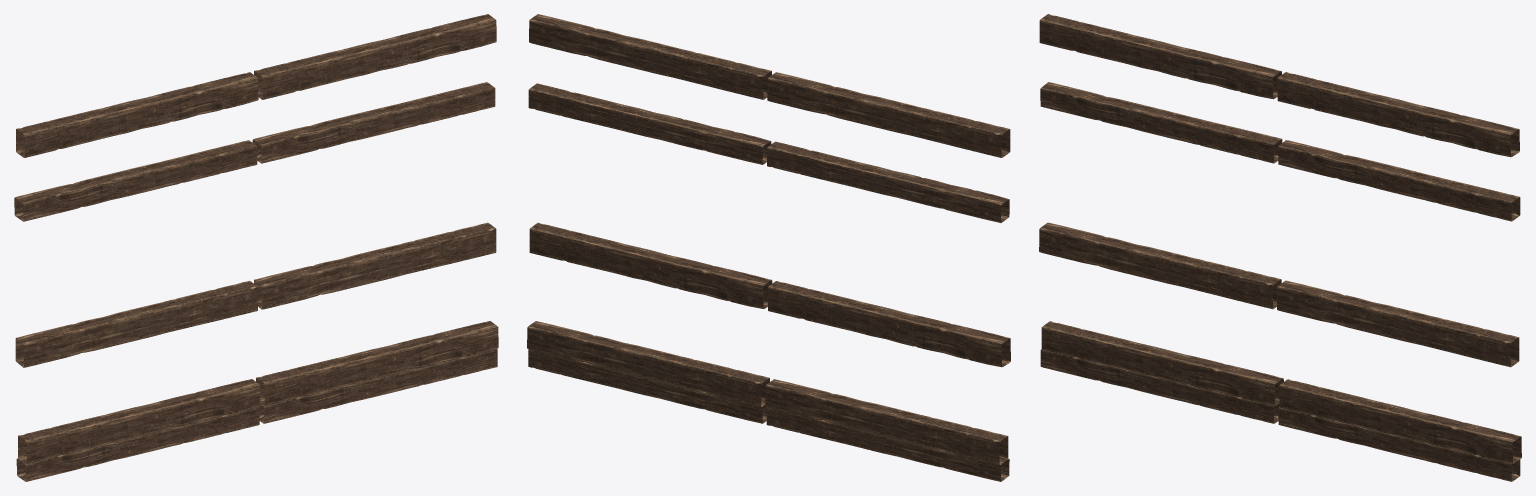
Rendered from SM_BackWall_04.fbx.
The picture shows the model from 3 angles, left to right: view 1: azimuth 30°, elevation 25°; view 2: azimuth 150°, elevation 25°; view 3: azimuth 330°, elevation 25°; orthographic projection.
Parts seen in each view (by area): view 1: SM_BackWall_04_LOD0; view 2: SM_BackWall_04_LOD0; view 3: SM_BackWall_04_LOD0.
Boxes of the visible parts, x1,y1,x2,y2 form: SM_BackWall_04_LOD0: [14, 14, 498, 481]; SM_BackWall_04_LOD0: [527, 14, 1010, 481]; SM_BackWall_04_LOD0: [1039, 14, 1521, 481].
Size of the model in its own units: 935 by 33.19 by 653.
